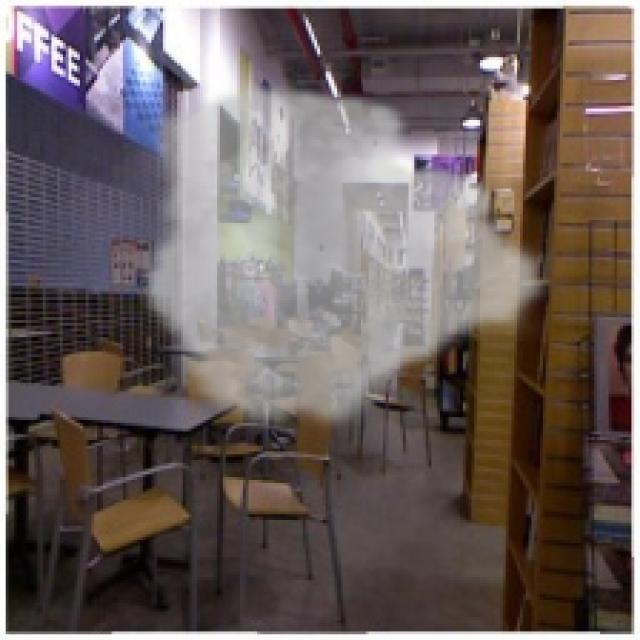smoke: (137, 77, 554, 437)
